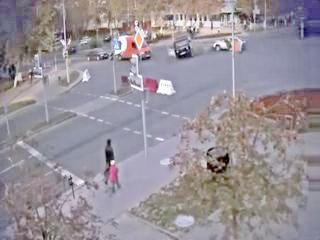Car: (213, 38, 244, 52), (175, 34, 193, 58), (86, 49, 107, 60)
Major Accident: (176, 33, 245, 57)
